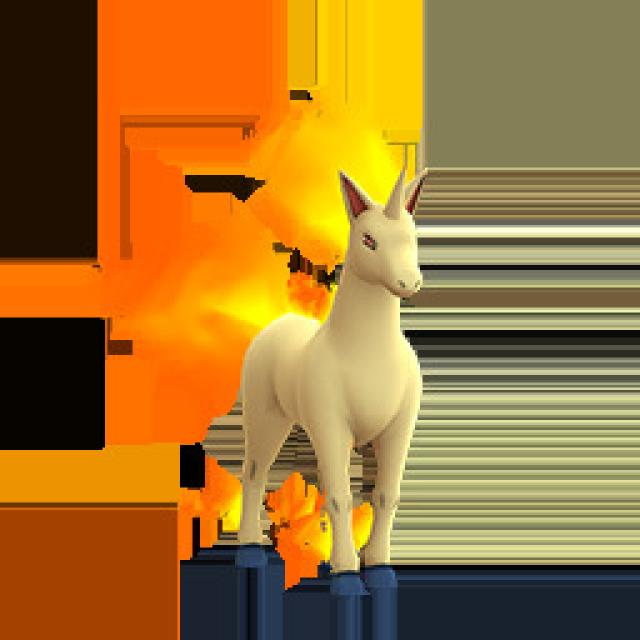Rapidash: (224, 95, 432, 605)
